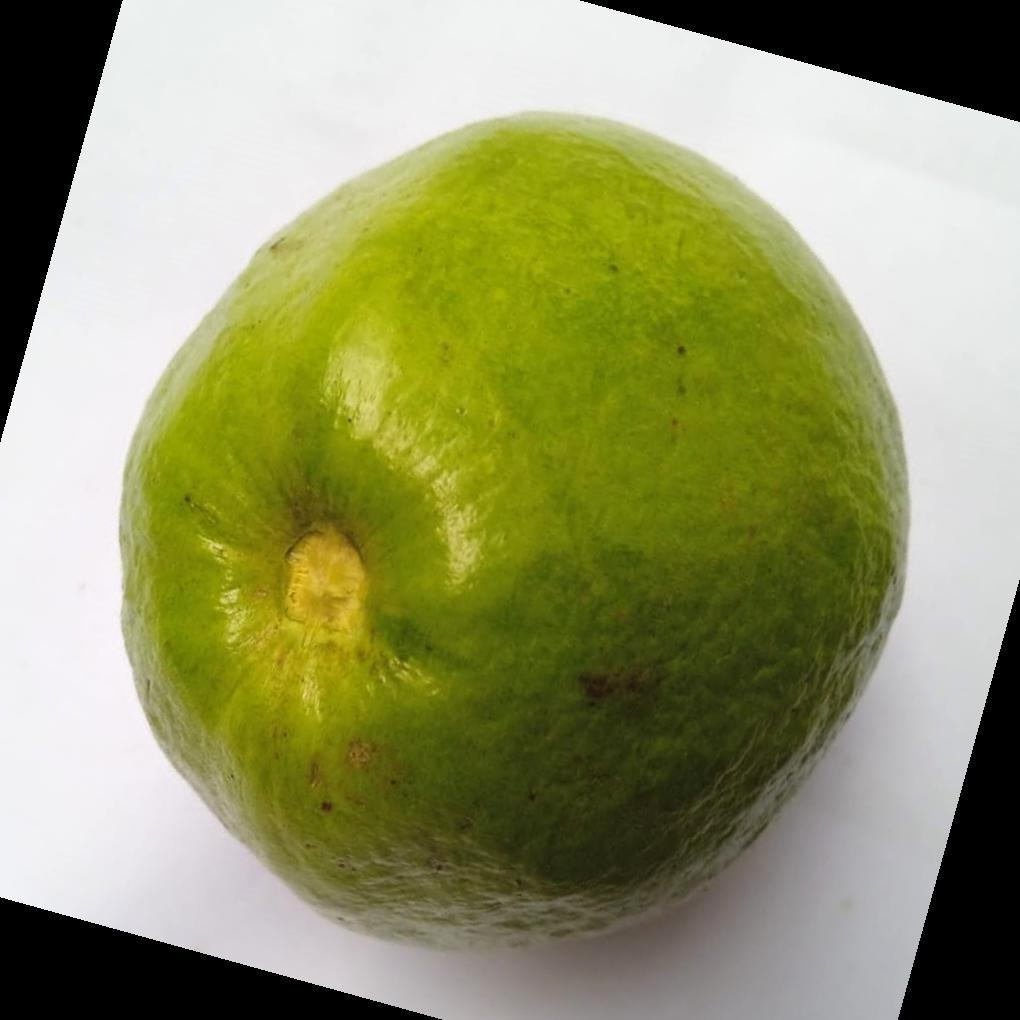FreshGuava: (117, 111, 912, 957)
